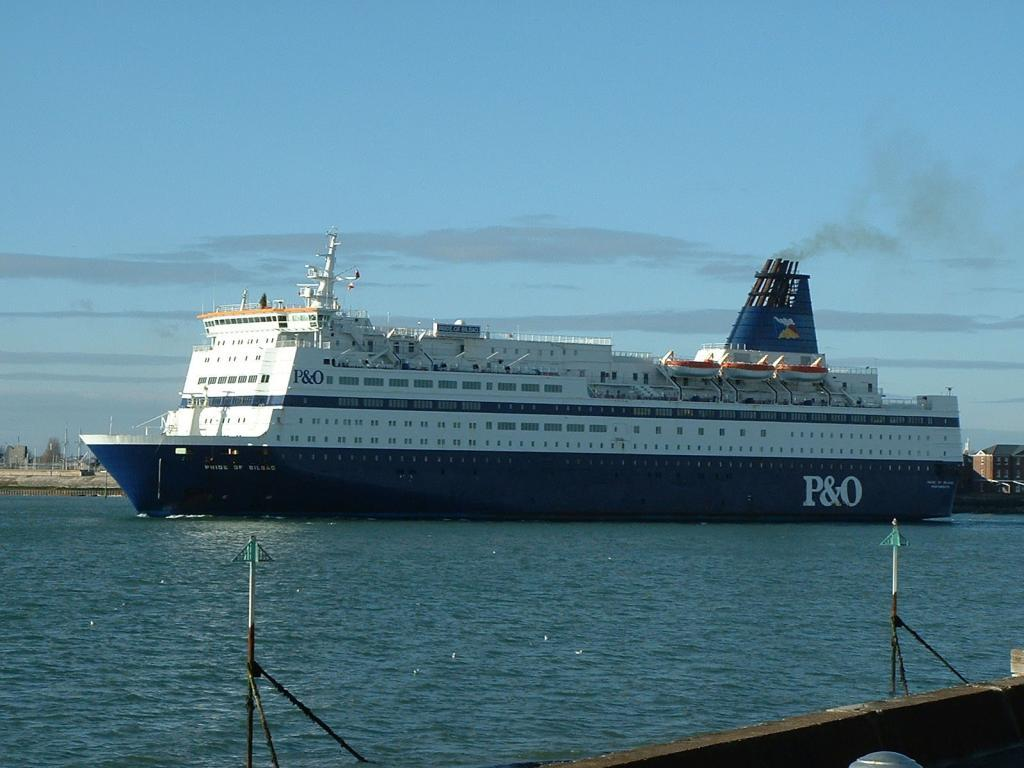youlun: (76, 232, 963, 525)
